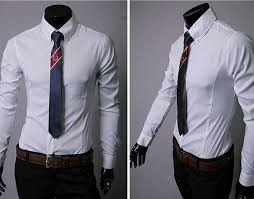F_shirt: (3, 16, 121, 168), (143, 14, 254, 167)
F_tie: (174, 32, 193, 135), (49, 28, 64, 140)
